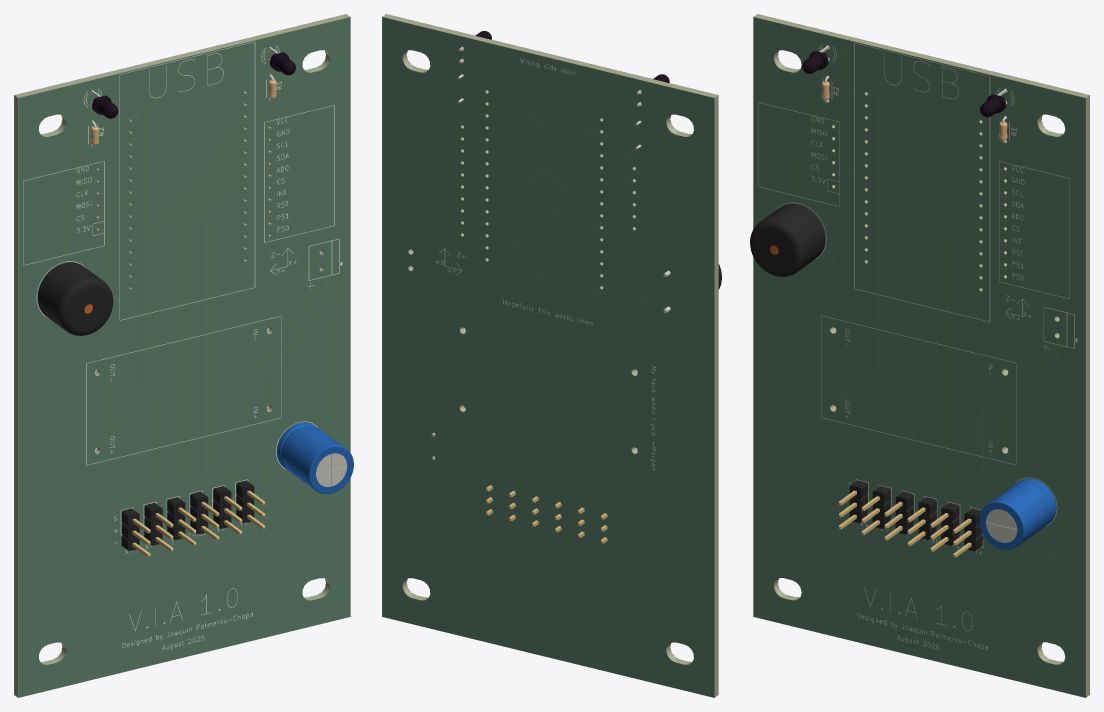
Rendered from VIA Flight Computer.obj.
The picture shows the model from 3 angles, left to right: view 1: azimuth 30°, elevation 25°; view 2: azimuth 150°, elevation 25°; view 3: azimuth 330°, elevation 25°; orthographic projection.
Visible parts, largest first — view 1: Srf1:2, Solid1:13, Srf1, Solid1:8, Solid1:3, Solid1:10, Solid1:1, Solid1:2, Solid1:9, Solid1:11, Solid1, Srf1:3; view 2: Solid1:13, Srf1:3, Srf1:1; view 3: Srf1:2, Solid1:13, Srf1, Solid1:8, Solid1:3, Solid1:1, Solid1, Solid1:2, Solid1:11, Solid1:9, Solid1:10, Srf1:3 (+1 smaller).
Part boxes in pixels (box(x1,y1,x2,y2)): Srf1:2: box(18, 17, 350, 697); Solid1:13: box(14, 14, 350, 697); Srf1: box(23, 41, 342, 649); Solid1:8: box(37, 262, 113, 335); Solid1:3: box(277, 422, 353, 493); Solid1:10: box(121, 508, 150, 557); Solid1:1: box(213, 486, 242, 534); Solid1:2: box(236, 480, 265, 529); Solid1:9: box(167, 497, 196, 545); Solid1:11: box(144, 503, 173, 551); Solid1: box(190, 491, 219, 540); Srf1:3: box(14, 14, 344, 694); Solid1:13: box(382, 14, 718, 697); Srf1:3: box(382, 17, 714, 697); Srf1:1: box(436, 57, 656, 470); Srf1:2: box(753, 17, 1085, 697); Solid1:13: box(753, 14, 1089, 697); Srf1: box(758, 43, 1077, 649); Solid1:8: box(750, 203, 825, 276); Solid1:3: box(979, 478, 1056, 549); Solid1:1: box(930, 503, 959, 551); Solid1: box(907, 497, 936, 545); Solid1:2: box(953, 508, 982, 557); Solid1:11: box(861, 486, 890, 534); Solid1:9: box(884, 491, 913, 540); Solid1:10: box(839, 480, 867, 529); Srf1:3: box(759, 14, 1089, 694).
Size of the model in its own units: 2.9 by 5 by 0.6102.
